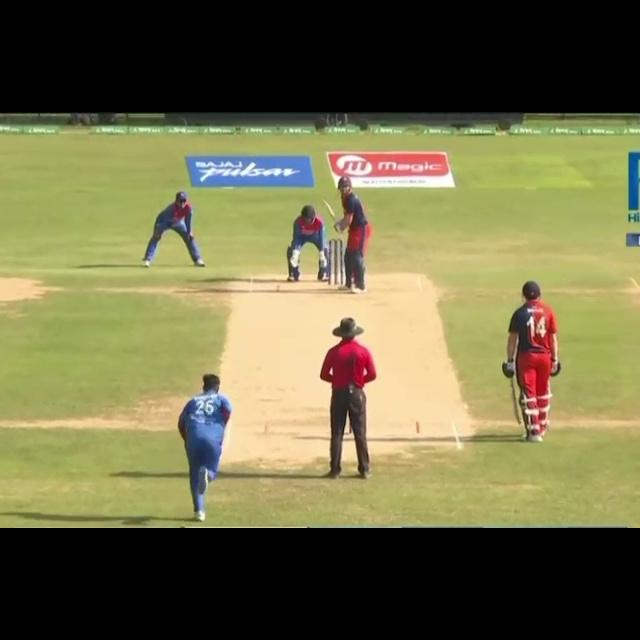umpire: (308, 315, 394, 491)
